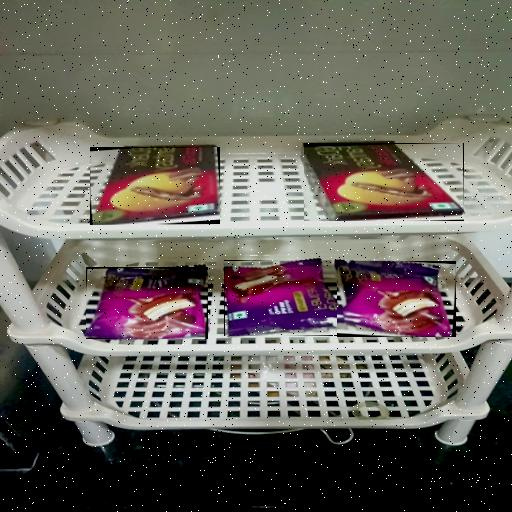Choco Fills: (304, 143, 464, 221), (90, 148, 220, 226)
Choco Pie: (224, 260, 343, 336), (337, 261, 456, 337), (86, 267, 208, 339)
